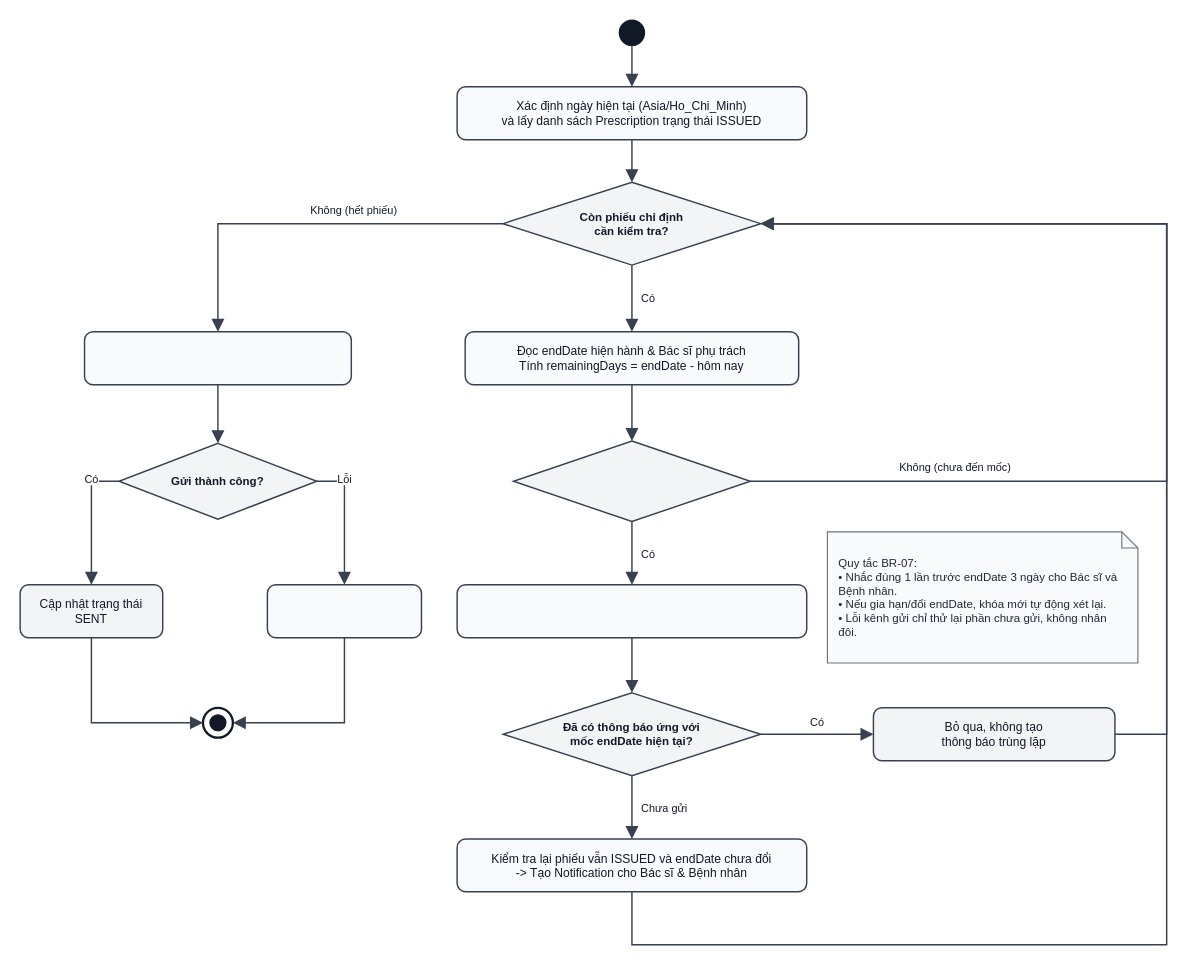
Some shapes in this 1199 by 978 pixel diagram are drawn without their labels. The shapes that lost their labels are listed below. From the top down, each one's centre as x and y in pixels, then its label:
At point (217, 358): "Gửi các Notification đang chờ (kèm retry an toàn khi lỗi kênh)".
At point (631, 481): "remainingDays == 3?".
At point (344, 611): "Giữ bản ghi PENDING chờ lần thử lại sau".
At point (631, 611): "Tạo khóa chống trùng theo từng người nhận: (prescriptionId, endDate, recipient)".
